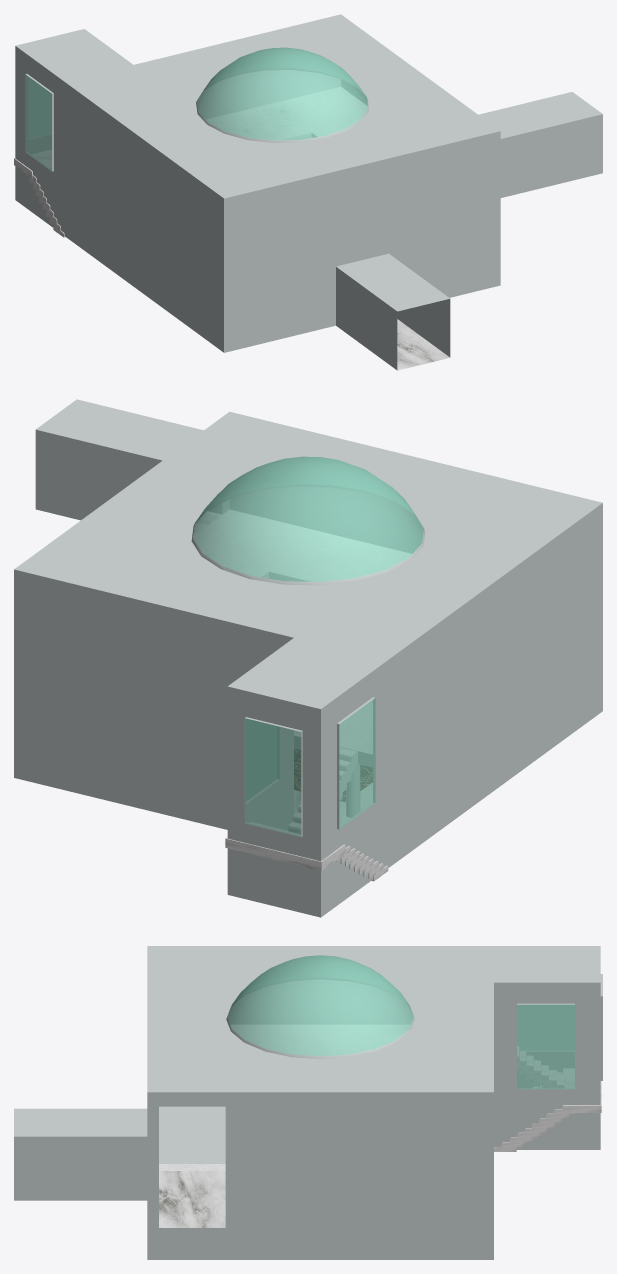
Rendered from Atrium1.fbx.
3 renders of one model, top to bottom at view 1: azimuth 30°, elevation 25°; view 2: azimuth 150°, elevation 25°; view 3: azimuth 270°, elevation 25°, orthographic. The views are drawn at different scales.
Visible parts, largest first — view 1: pCube19, floor2, stairs2; view 2: pCube19, floor2, pCube4, stairs3, stairs2; view 3: pCube19, floor2, stairs3, stairs1, pCube4.
Part boxes in pixels (left/top/right/bottom): pCube19: left=15, top=14, right=602, bottom=370; floor2: left=64, top=87, right=500, bottom=280; stairs2: left=25, top=174, right=65, bottom=237; pCube19: left=14, top=399, right=602, bottom=917; floor2: left=14, top=510, right=602, bottom=770; pCube4: left=225, top=822, right=345, bottom=870; stairs3: left=288, top=747, right=357, bottom=833; stairs2: left=335, top=846, right=388, bottom=881; pCube19: left=14, top=946, right=602, bottom=1259; floor2: left=147, top=1025, right=493, bottom=1181; stairs3: left=517, top=1046, right=564, bottom=1087; stairs1: left=494, top=1109, right=576, bottom=1151; pCube4: left=562, top=1068, right=601, bottom=1112.
Bounding box in the file's own units: 41.88 × 21.67 × 51.01.
4 materials, 2 textured.
